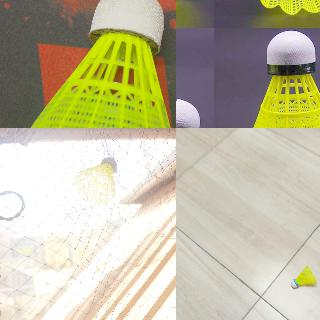shuttlecock: (0, 0, 175, 127), (242, 30, 319, 127), (74, 158, 116, 204), (289, 265, 317, 289)
